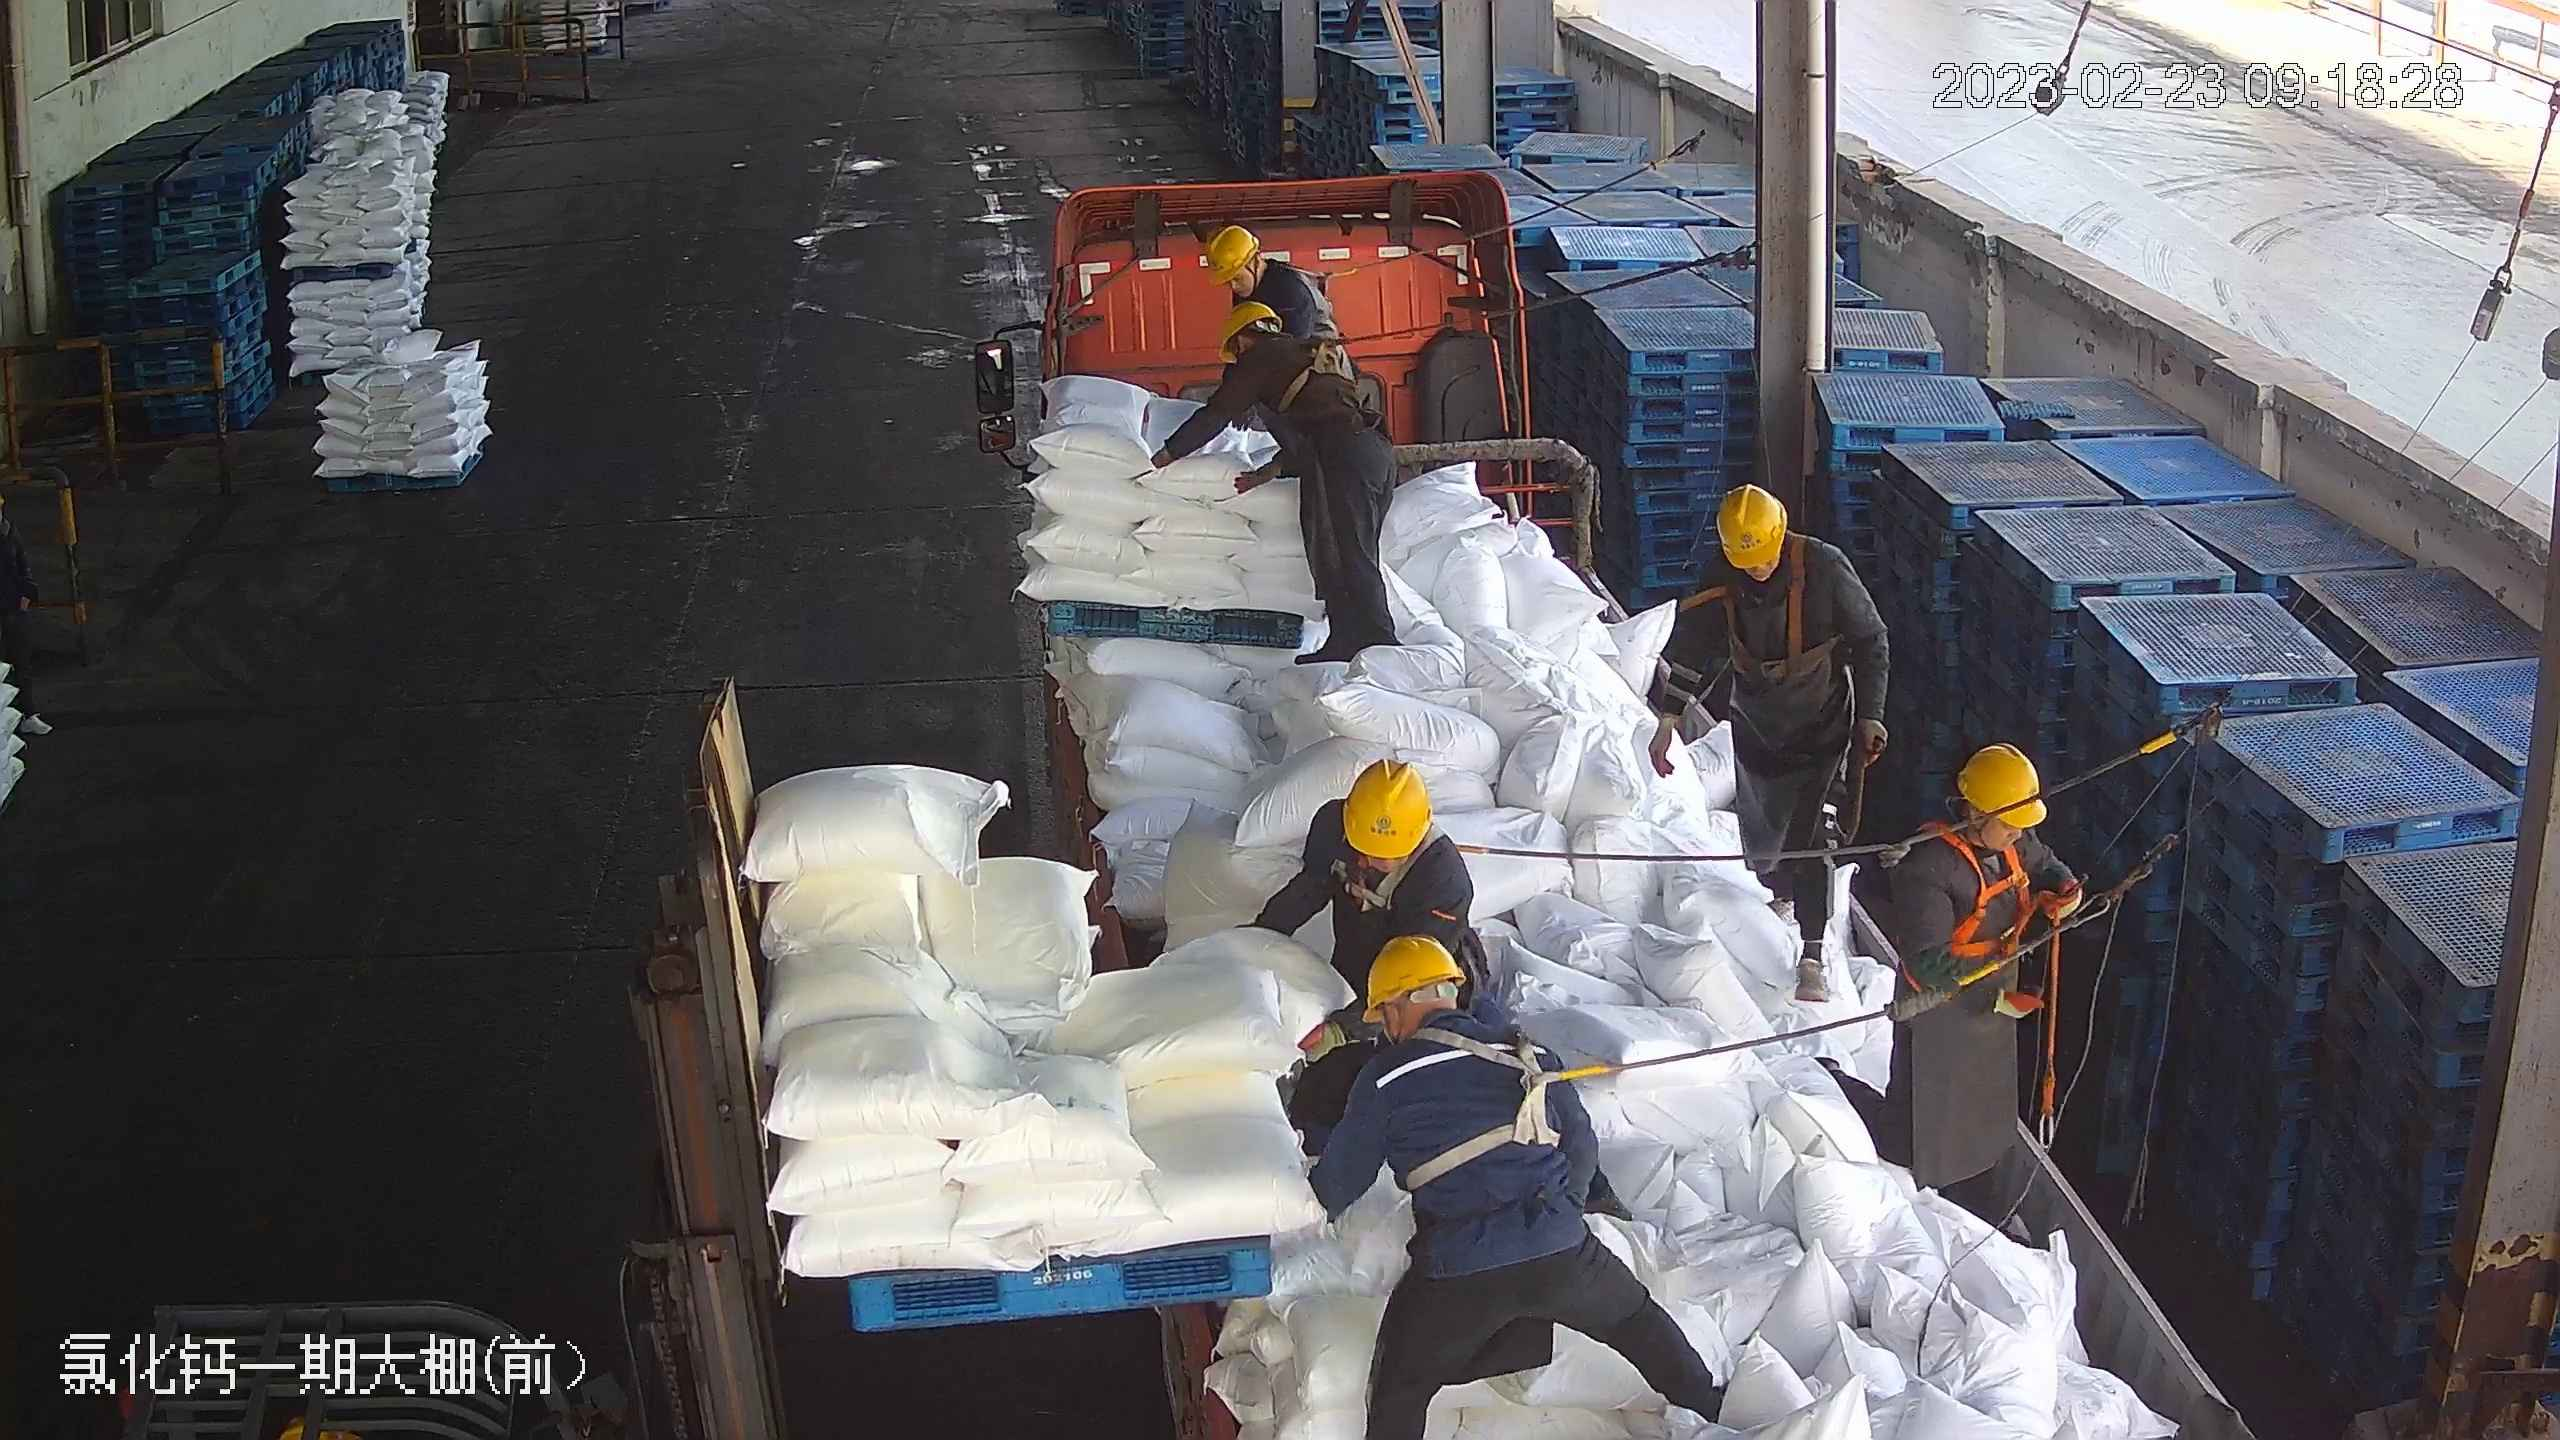belt: (1418, 1020, 1604, 1178), (1917, 845, 2040, 993), (1331, 828, 1488, 933), (1724, 578, 1839, 684), (1268, 338, 1370, 416), (1267, 258, 1352, 323)
head: (1358, 940, 1538, 1095), (1901, 741, 2056, 902), (1691, 480, 1859, 619), (1309, 758, 1463, 903), (1216, 305, 1327, 399), (1206, 224, 1313, 320)
helmet: (1357, 931, 1469, 1020), (1340, 756, 1431, 856), (1955, 739, 2048, 820), (1712, 478, 1792, 567), (1215, 301, 1281, 354), (1201, 222, 1259, 276)
people: (1323, 941, 1710, 1440), (1651, 482, 1890, 999), (1873, 738, 2081, 1249), (1238, 759, 1500, 1142), (1165, 307, 1402, 673)
truck: (974, 169, 2263, 1427)
